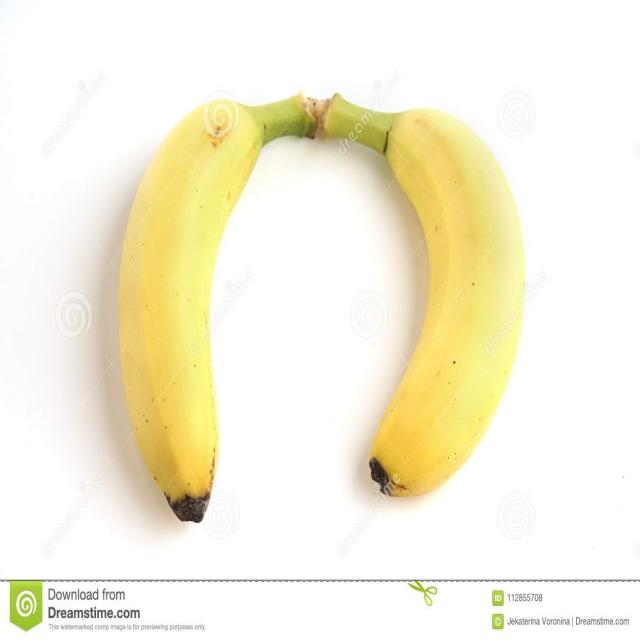Banana: (111, 86, 311, 530), (320, 99, 526, 504)
